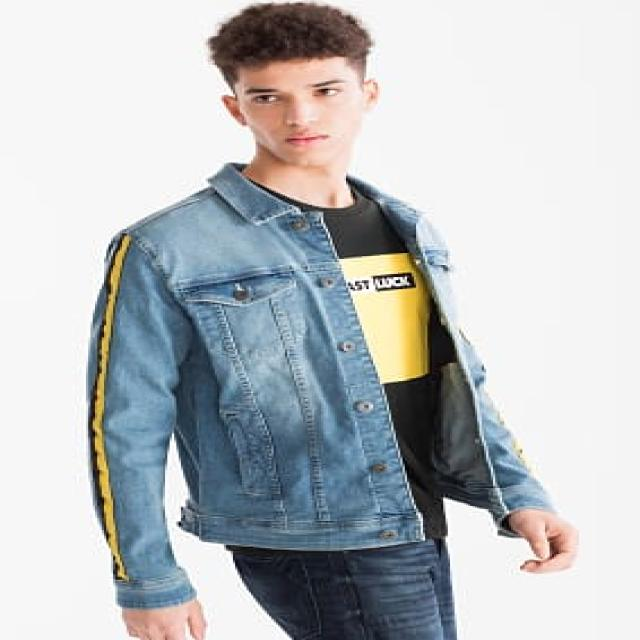human: (73, 4, 584, 640)
